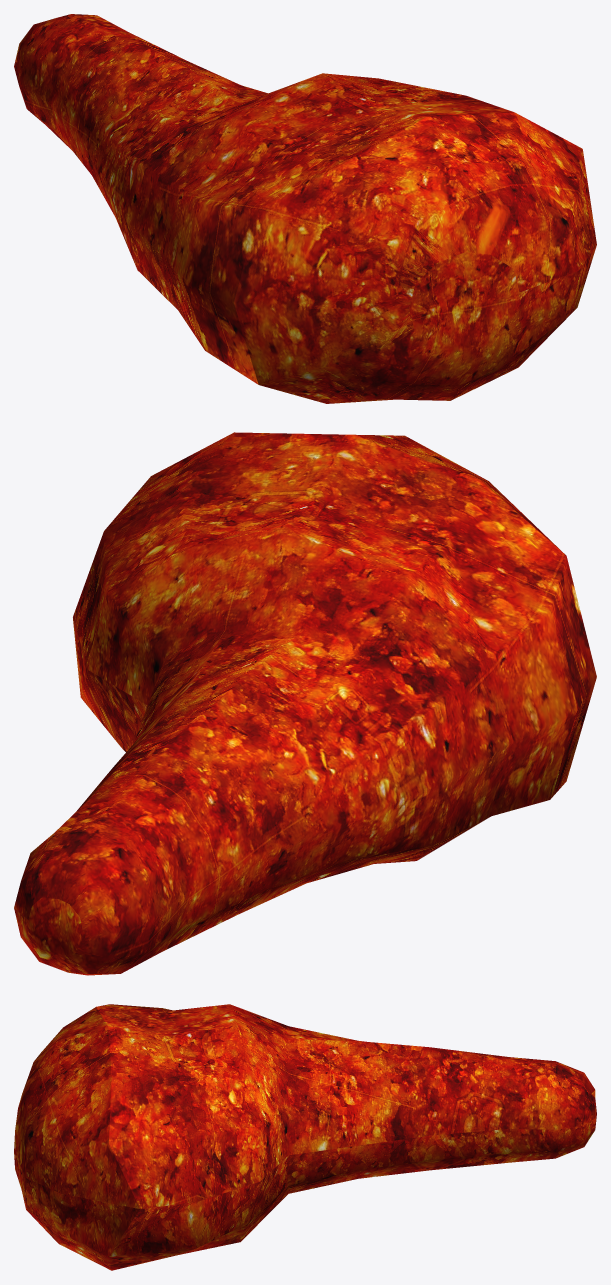
The model's file is friedChicken_Red.FBX.
3 views of the same model, one above another, from view 1: azimuth 30°, elevation 25°; view 2: azimuth 150°, elevation 25°; view 3: azimuth 270°, elevation 25° (orthographic). The views are drawn at different scales.
Parts seen in each view (by area): view 1: Chicken_red; view 2: Chicken_red; view 3: Chicken_red.
Boxes of the visible parts, bbox=[...] form: Chicken_red: bbox=[14, 14, 596, 403]; Chicken_red: bbox=[14, 432, 596, 975]; Chicken_red: bbox=[14, 1004, 596, 1270].
Bounding box in the file's own units: 21.43 × 35.01 × 14.81.
1 material, 1 textured.
